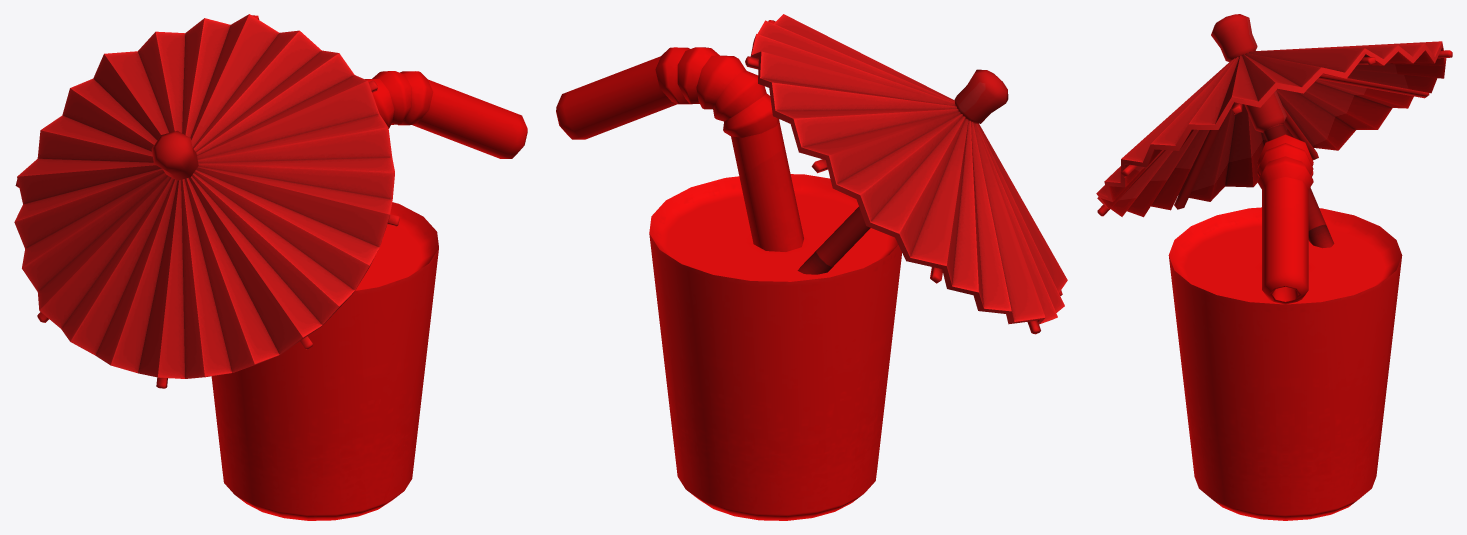
Rendered from Web_Smoothie_Mix_Red.obj.
The picture shows the model from 3 angles, left to right: view 1: azimuth 30°, elevation 25°; view 2: azimuth 150°, elevation 25°; view 3: azimuth 270°, elevation 25°; orthographic projection. The views are drawn at different scales.
Visible parts, largest first — view 1: m_recipe_megaSmoothie_01(Clone)_0; view 2: m_recipe_megaSmoothie_01(Clone)_0; view 3: m_recipe_megaSmoothie_01(Clone)_0.
Part boxes in pixels (box(x1,y1,x2,y2)): m_recipe_megaSmoothie_01(Clone)_0: box(14, 14, 527, 520); m_recipe_megaSmoothie_01(Clone)_0: box(556, 14, 1067, 520); m_recipe_megaSmoothie_01(Clone)_0: box(1096, 14, 1452, 520).
Size of the model in its own units: 1.11 by 1.01 by 0.7635.
Materials: 1 (1 with a texture image).
